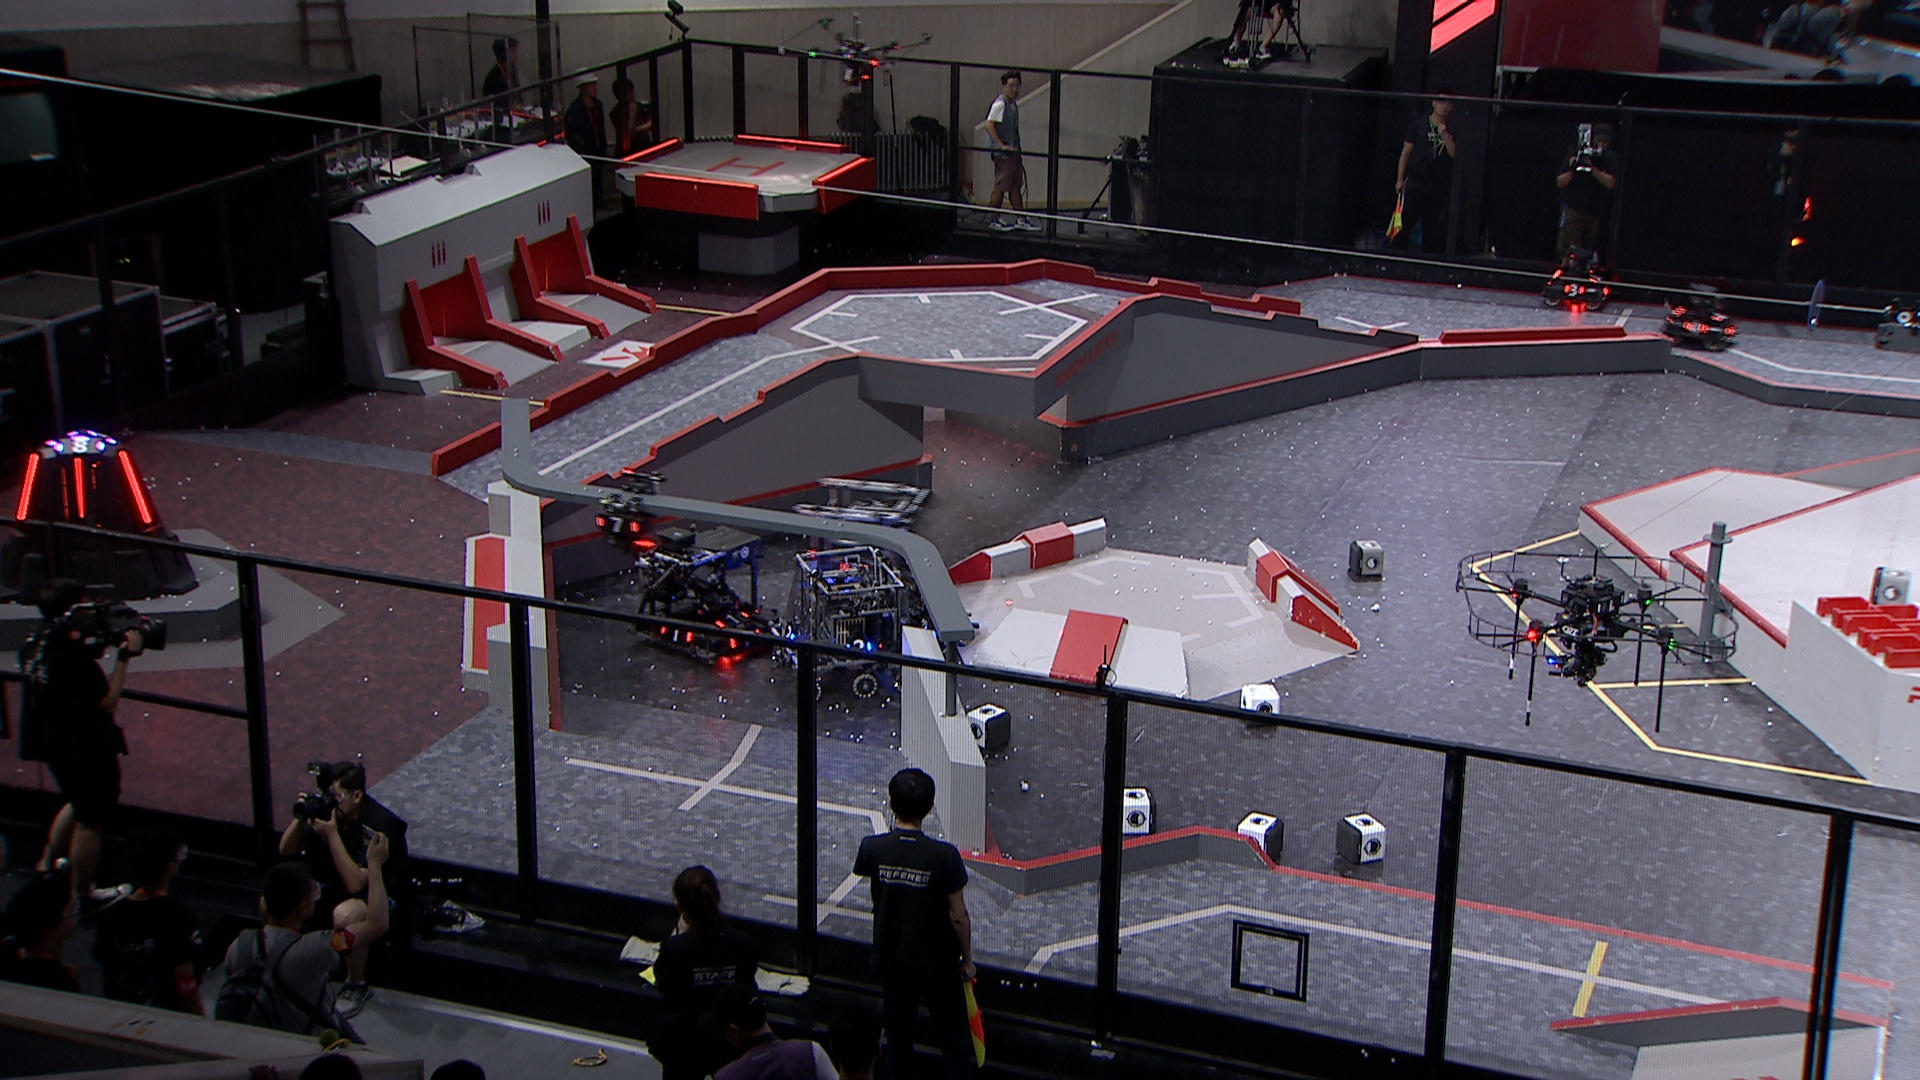armor: (116, 448, 150, 524), (13, 450, 40, 526), (593, 512, 642, 533), (71, 456, 87, 520), (713, 608, 749, 626), (58, 465, 69, 526), (657, 622, 690, 641), (728, 632, 760, 647), (778, 622, 796, 647), (847, 637, 874, 651), (1685, 320, 1708, 334), (1563, 281, 1582, 295), (1713, 309, 1727, 322), (1586, 270, 1602, 282)
base: (1, 425, 196, 609)
car: (789, 473, 940, 628), (769, 547, 916, 699), (629, 517, 767, 666), (1662, 277, 1737, 353), (1542, 247, 1613, 310)
ignore: (53, 433, 102, 454)
watcher: (585, 465, 666, 556)
